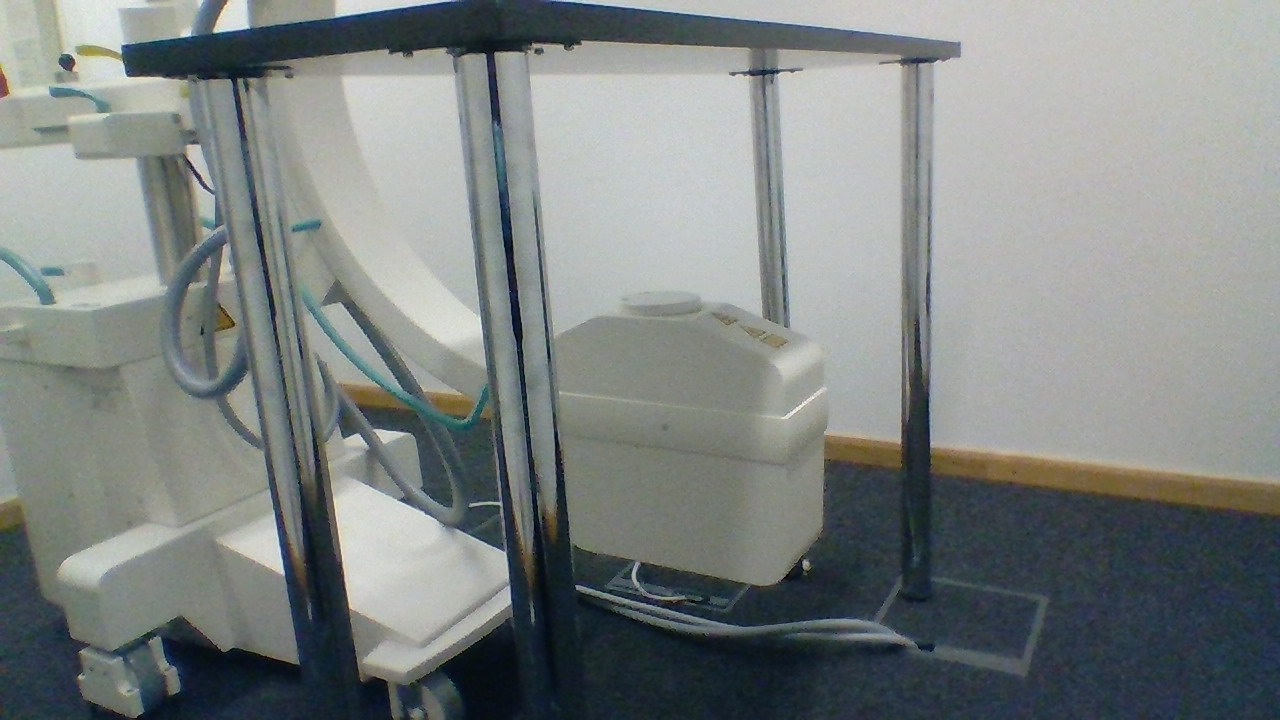carmDOWN: (525, 288, 828, 419)
